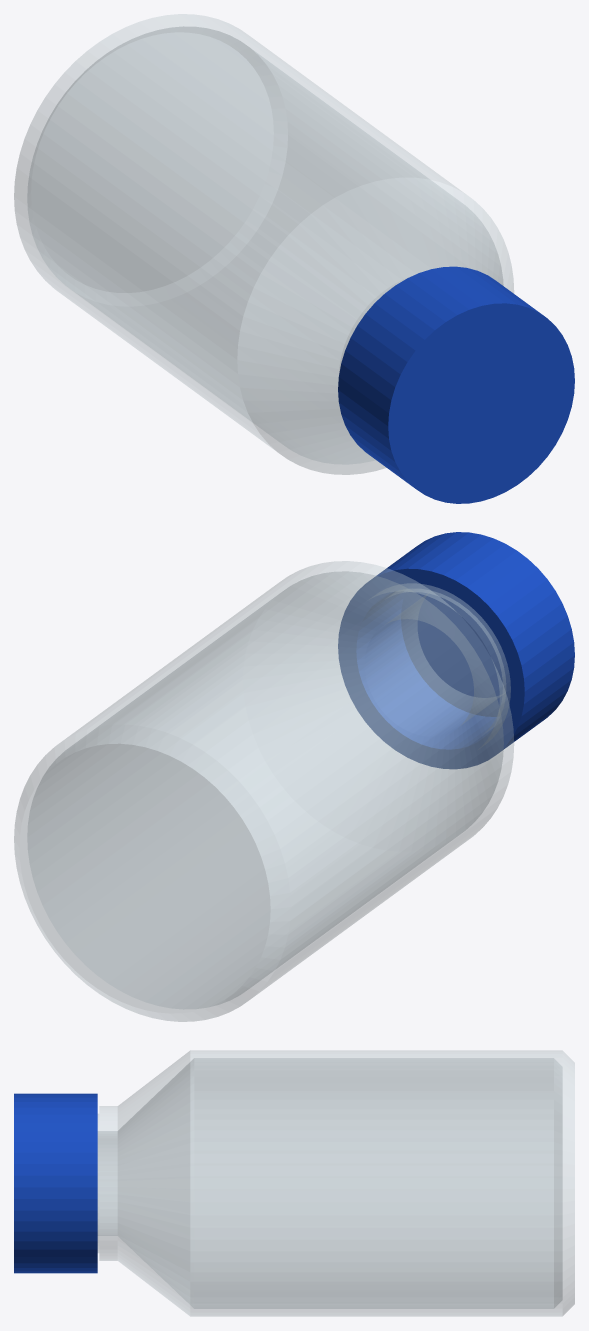
The model's file is reagent_bottle_clear.glb.
3 views of the same model, one above another, from view 1: azimuth 30°, elevation 25°; view 2: azimuth 150°, elevation 25°; view 3: azimuth 270°, elevation 25° (orthographic). The views are drawn at different scales.
Visible parts, largest first — view 1: duran_gl45_500ml_clear__body, duran_gl45_500ml_clear__cap; view 2: duran_gl45_500ml_clear__body, duran_gl45_500ml_clear__cap; view 3: duran_gl45_500ml_clear__body, duran_gl45_500ml_clear__cap.
Boxes of the visible parts, x1,y1,x2,y2 form: duran_gl45_500ml_clear__body: [14, 14, 513, 474]; duran_gl45_500ml_clear__cap: [338, 266, 574, 503]; duran_gl45_500ml_clear__body: [14, 561, 513, 1021]; duran_gl45_500ml_clear__cap: [338, 532, 574, 768]; duran_gl45_500ml_clear__body: [97, 1050, 574, 1316]; duran_gl45_500ml_clear__cap: [14, 1093, 97, 1273].
Bounding box in the file's own units: 0.086 × 0.086 × 0.181.
